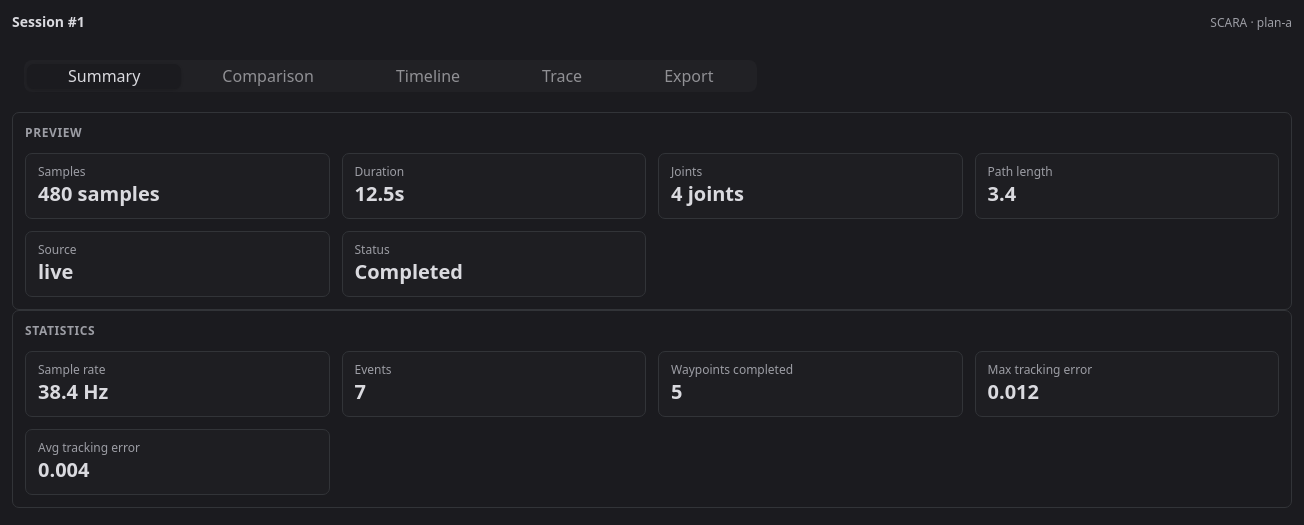
Scenario: SessionDetail tabs — purely compositional (P4) › Timeline tab: fetches /execution-trace and renders one marker label per canonical event
Expected: the text "480 samples" is shown, [38,180,160,207]
Click the tab "Timeline": (428, 76) [355,64,501,88]
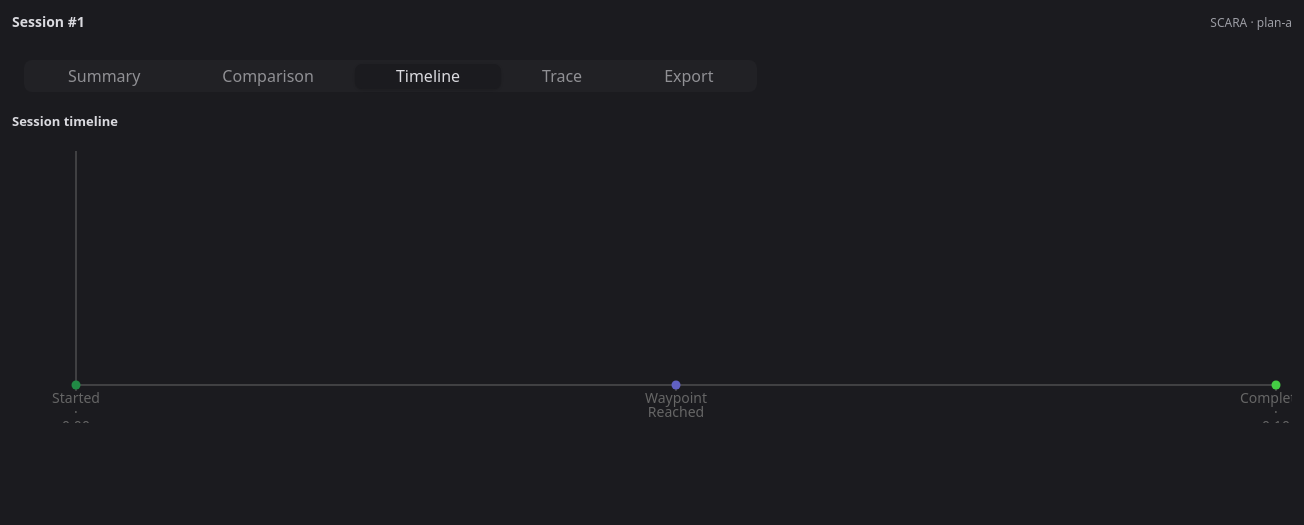
Expected: the element with test id "chart" is shown, [12,112,1292,432]
